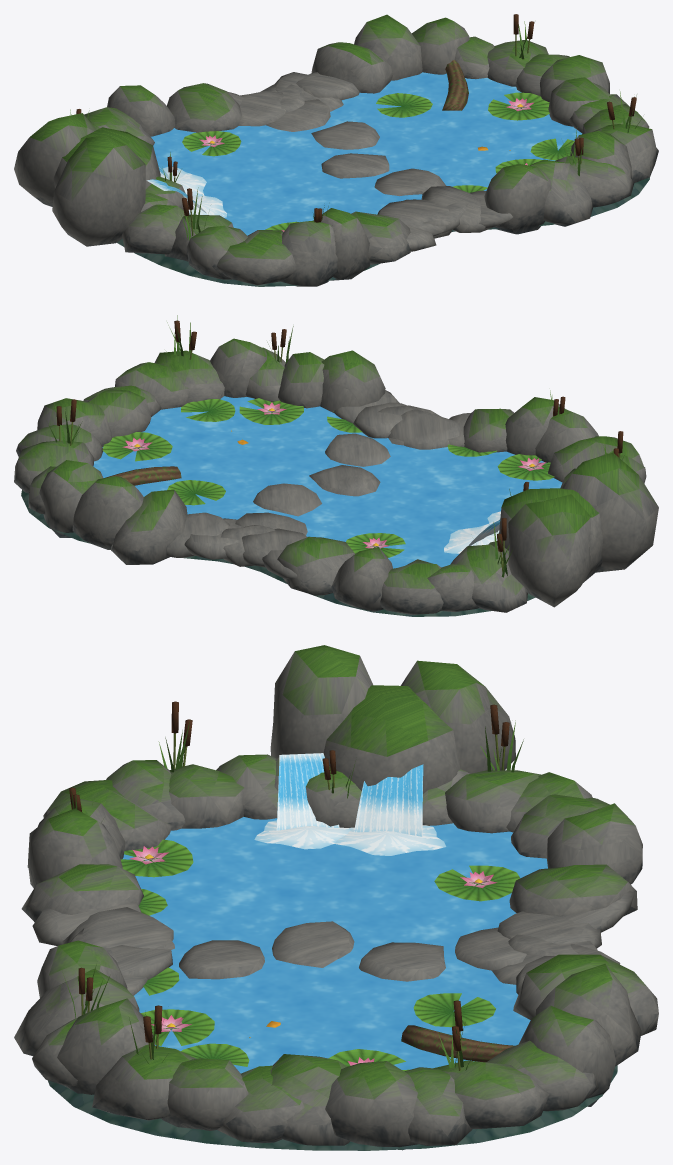
The model's file is SteppingStreamPond.fbx.
3 renders of one model, top to bottom at view 1: azimuth 30°, elevation 25°; view 2: azimuth 150°, elevation 25°; view 3: azimuth 270°, elevation 25°, orthographic. The views are drawn at different scales.
Parts seen in each view (by area): view 1: Pond_Rocks.003, Pond_Water.003, Pond_Flora.003, Pond_Bed.003, Pond_Waterfall.002; view 2: Pond_Rocks.003, Pond_Water.003, Pond_Flora.003, Pond_Bed.003, Pond_Waterfall.002; view 3: Pond_Rocks.003, Pond_Water.003, Pond_Flora.003, Pond_Waterfall.002, Pond_Bed.003.
Boxes of the visible parts, x1,y1,x2,y2 form: Pond_Rocks.003: (14, 14, 658, 286); Pond_Water.003: (151, 72, 582, 235); Pond_Flora.003: (70, 14, 641, 240); Pond_Bed.003: (117, 177, 649, 286); Pond_Waterfall.002: (146, 165, 226, 217); Pond_Rocks.003: (14, 338, 658, 614); Pond_Water.003: (93, 396, 562, 568); Pond_Flora.003: (48, 315, 624, 577); Pond_Bed.003: (21, 490, 535, 616); Pond_Waterfall.002: (444, 511, 500, 553); Pond_Rocks.003: (14, 645, 658, 1150); Pond_Water.003: (122, 817, 547, 1073); Pond_Flora.003: (62, 701, 523, 1071); Pond_Waterfall.002: (254, 753, 446, 855); Pond_Bed.003: (48, 1065, 617, 1150).
Bounding box in the file's own units: 29.42 × 5.69 × 20.35.
5 materials, 5 textured.
